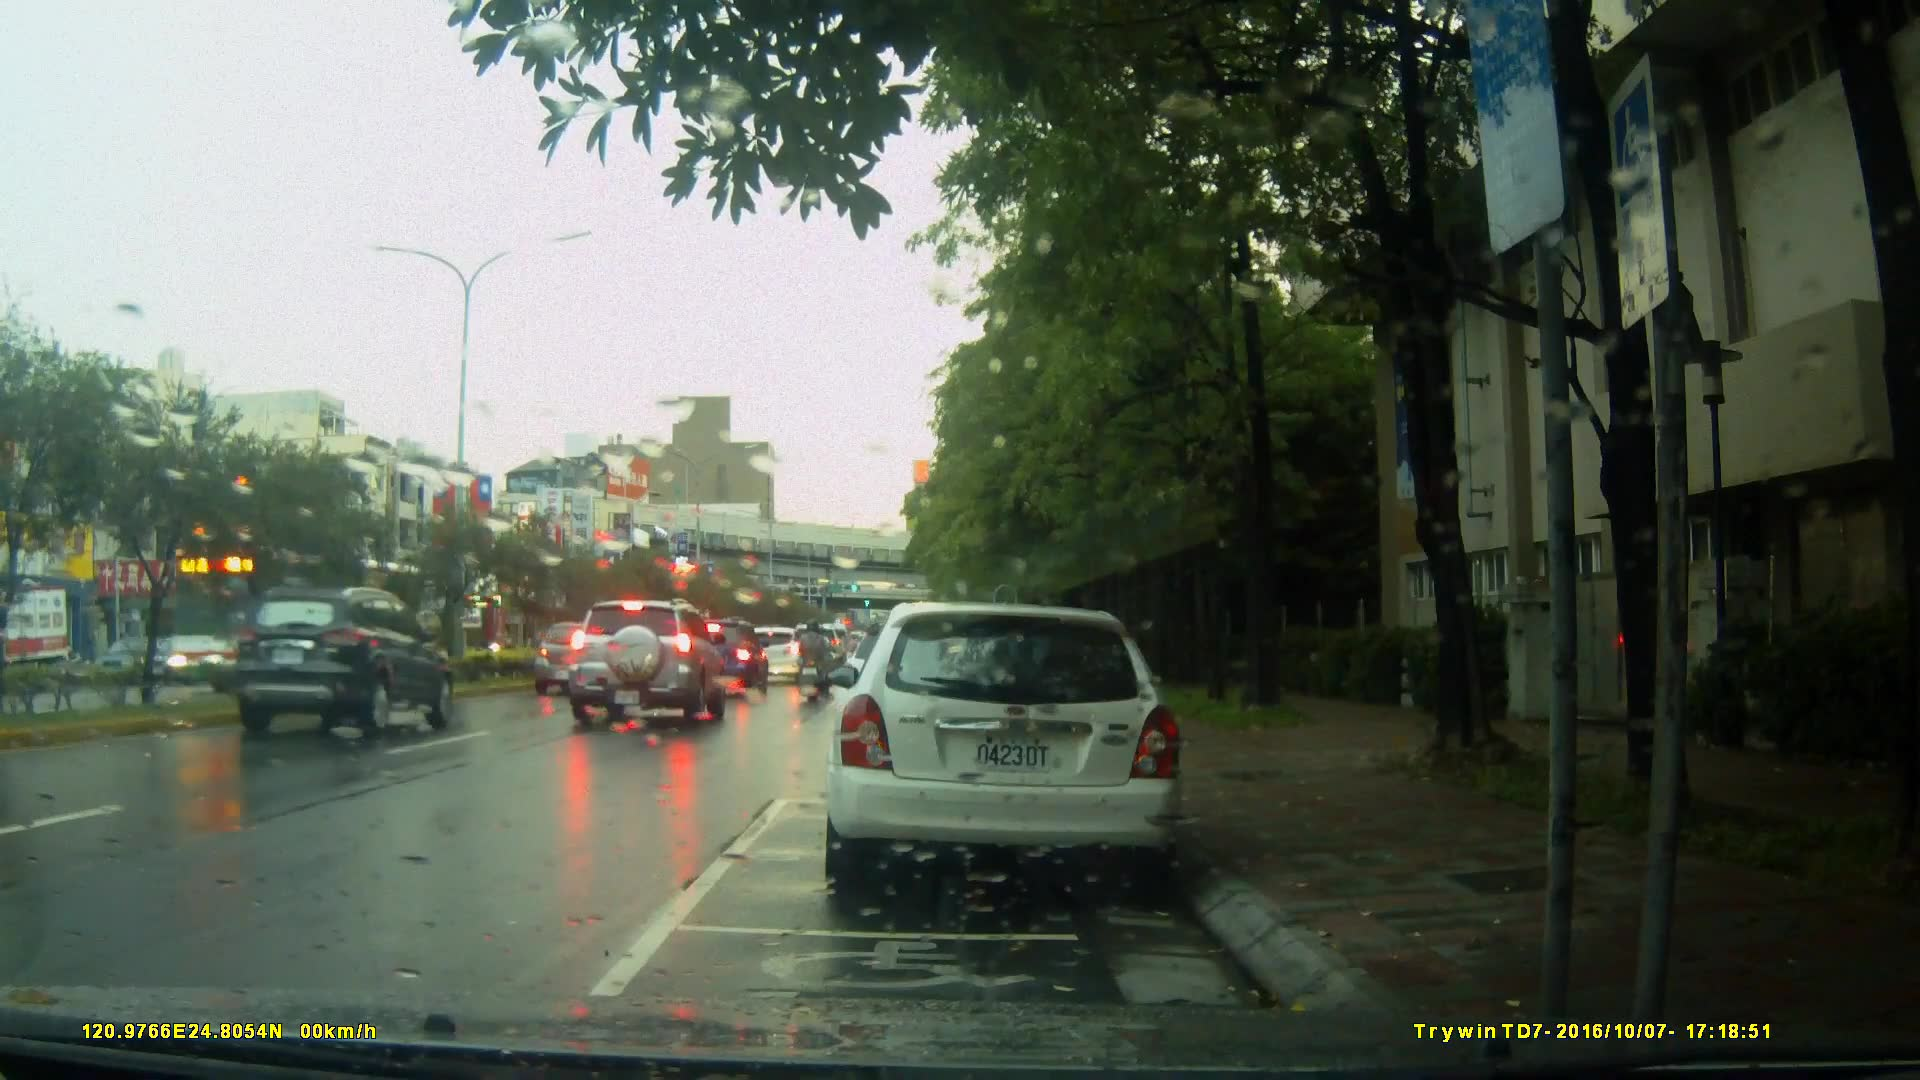rider: (798, 614, 837, 710)
vehicle: (820, 602, 1188, 898), (229, 585, 461, 740), (571, 599, 731, 728), (674, 616, 773, 692)
